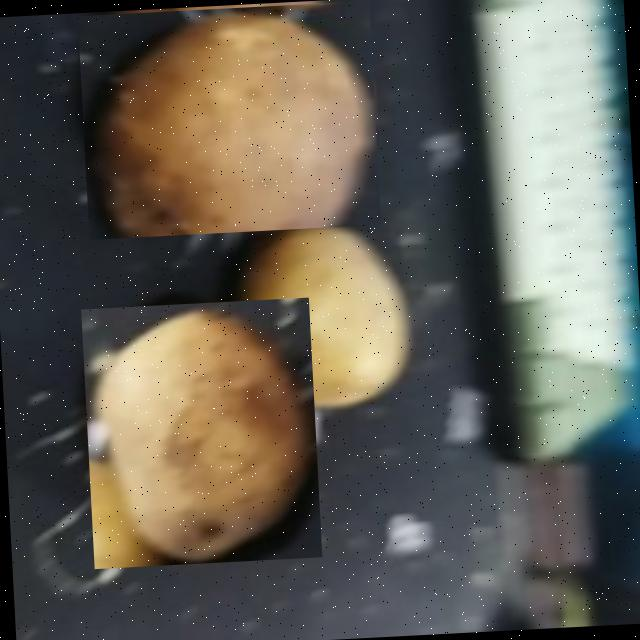Damaged potato: (78, 0, 381, 239), (81, 296, 322, 568)
Potato: (237, 217, 426, 420)
